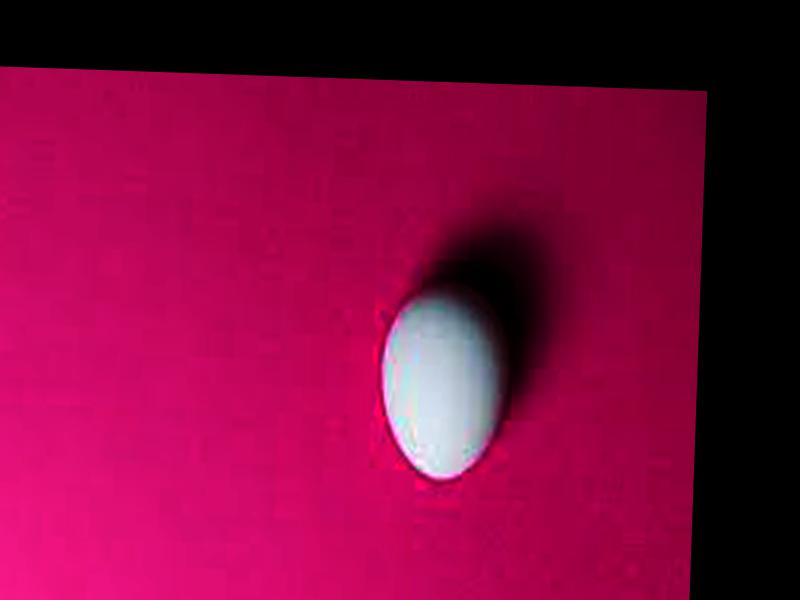Eggs: (377, 280, 511, 482)
